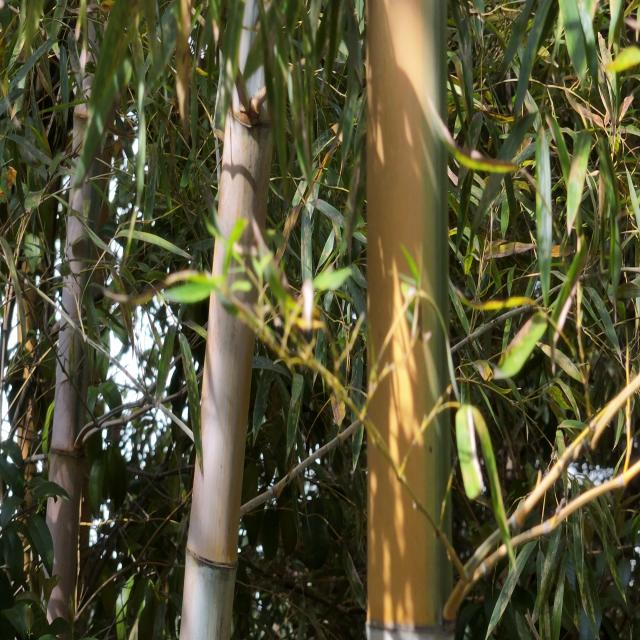Bamboo-shoots: (178, 0, 281, 640)
